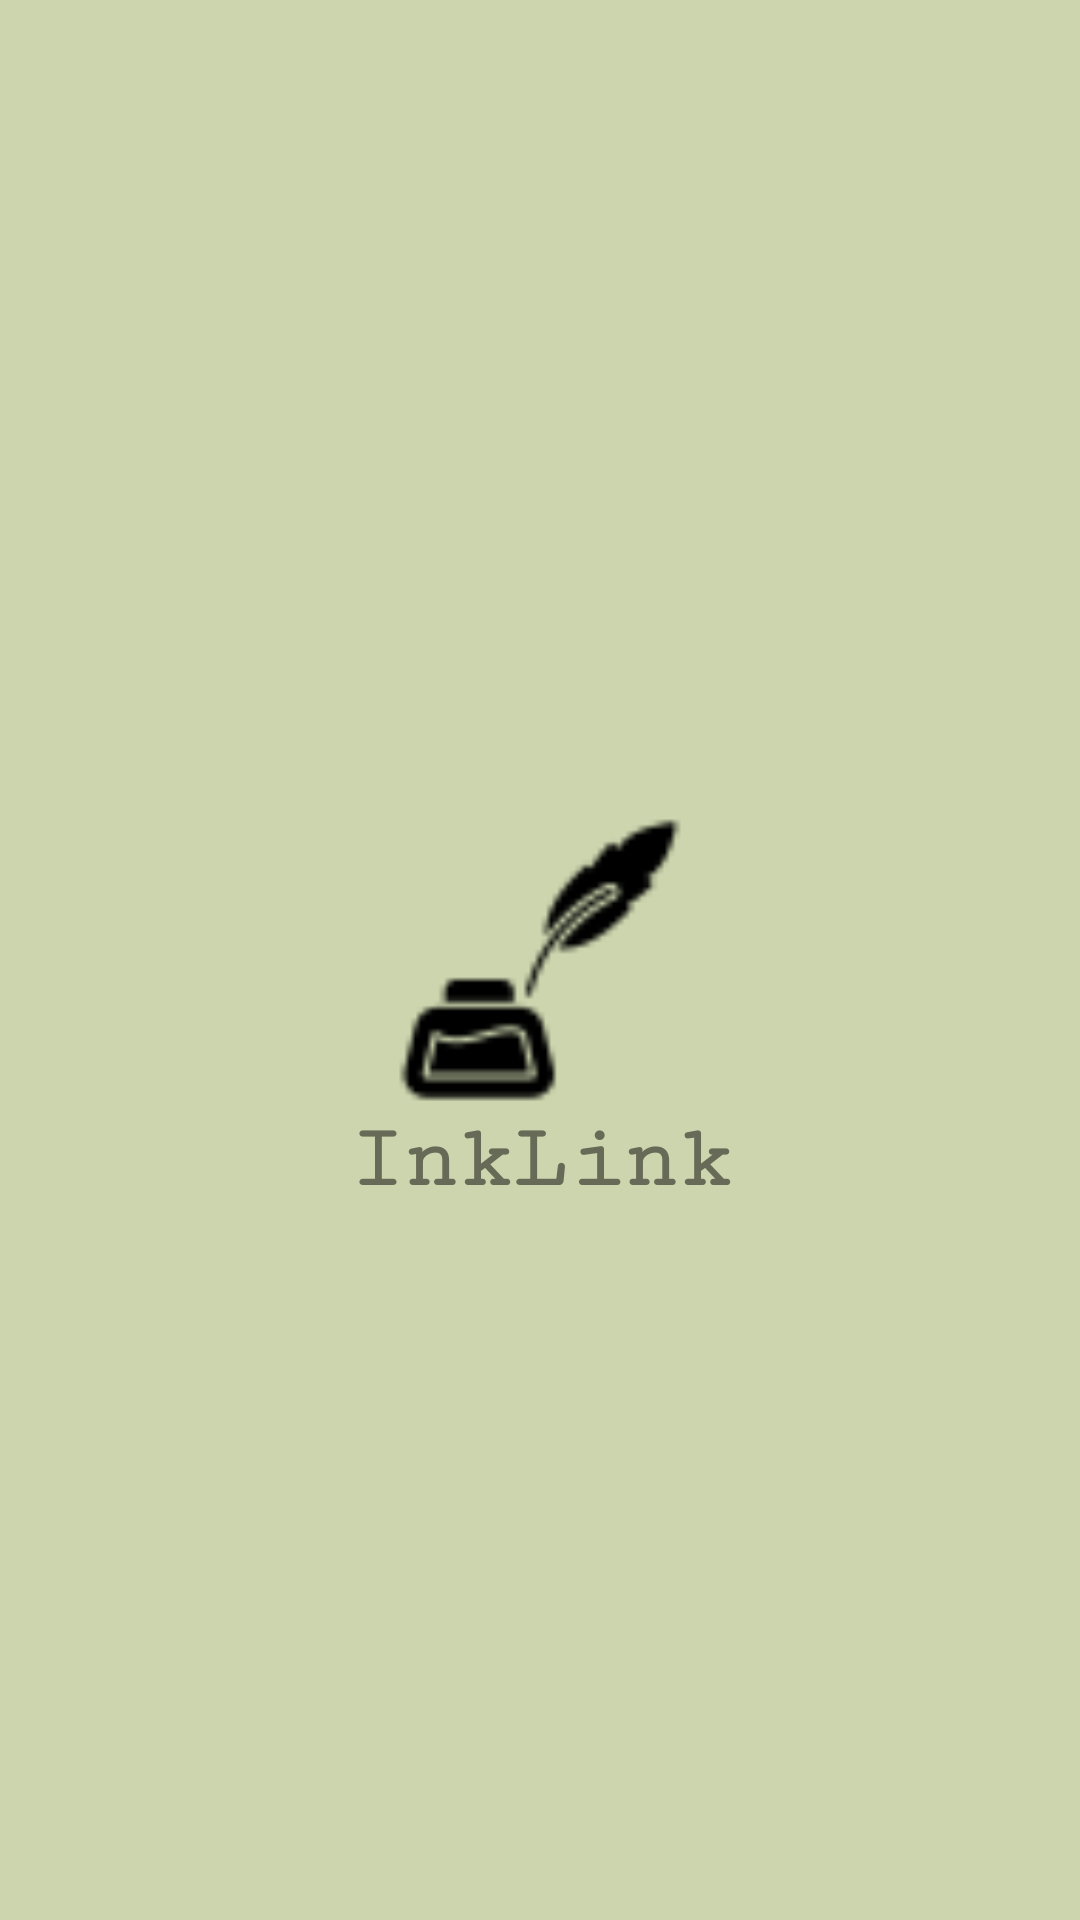

Where icons sit on this 1080 × 1920 app screen, as Rect(x1, y1, x2, y2):
inkpot: Rect(400, 819, 680, 1101)
